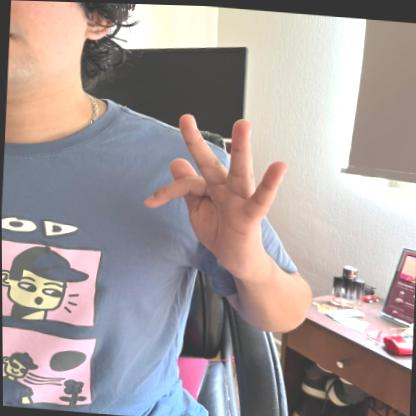F: (133, 101, 292, 284)
